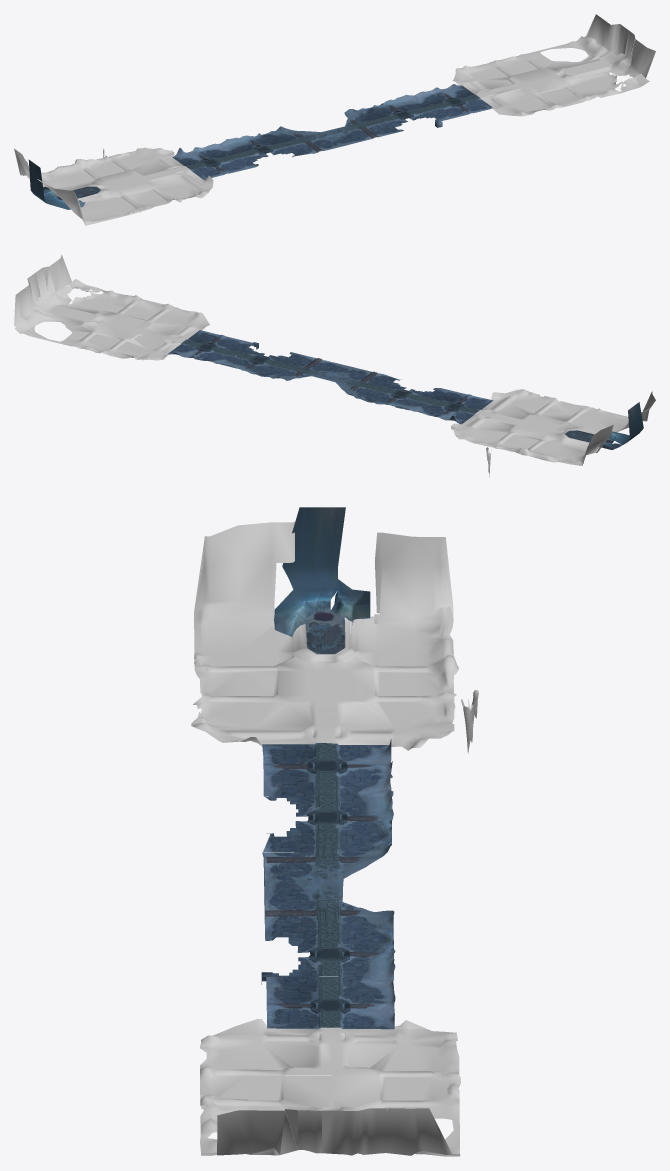
File: floor.obj
3 renders of one model, top to bottom at view 1: azimuth 30°, elevation 25°; view 2: azimuth 150°, elevation 25°; view 3: azimuth 270°, elevation 25°, orthographic. The views are drawn at different scales.
Parts seen in each view (by area): view 1: Object054_未命名.001, DrawCall_0049_未命名.002, DrawCall_0067_未命名, DrawCall_0276_未命名.003, Object055_未命名.004, Object056_未命名.007, DrawCall_0079_未命名.005, DrawCall_0082_未命名.006; view 2: Object054_未命名.001, DrawCall_0049_未命名.002, DrawCall_0067_未命名, DrawCall_0276_未命名.003, Object055_未命名.004, Object056_未命名.007, DrawCall_0079_未命名.005, DrawCall_0082_未命名.006; view 3: DrawCall_0049_未命名.002, Object054_未命名.001, DrawCall_0082_未命名.006, DrawCall_0067_未命名, DrawCall_0276_未命名.003, Object055_未命名.004, Object056_未命名.007, DrawCall_0079_未命名.005.
Part boxes in pixels (<box>): Object054_未命名.001: <box>452,14,655,116</box>; DrawCall_0049_未命名.002: <box>14,147,213,225</box>; DrawCall_0067_未命名: <box>281,109,384,153</box>; DrawCall_0276_未命名.003: <box>172,141,255,179</box>; Object055_未命名.004: <box>409,84,492,120</box>; Object056_未命名.007: <box>353,94,442,135</box>; DrawCall_0079_未命名.005: <box>224,126,312,166</box>; DrawCall_0082_未命名.006: <box>28,159,101,209</box>; Object054_未命名.001: <box>14,254,209,360</box>; DrawCall_0049_未命名.002: <box>451,389,655,476</box>; DrawCall_0067_未命名: <box>278,357,382,395</box>; DrawCall_0276_未命名.003: <box>409,388,493,424</box>; Object055_未命名.004: <box>168,330,252,364</box>; Object056_未命名.007: <box>221,342,309,378</box>; DrawCall_0079_未命名.005: <box>351,374,439,409</box>; DrawCall_0082_未命名.006: <box>565,402,643,449</box>; DrawCall_0049_未命名.002: <box>191,521,478,753</box>; Object054_未命名.001: <box>200,1019,460,1156</box>; DrawCall_0082_未命名.006: <box>274,507,370,654</box>; DrawCall_0067_未命名: <box>262,844,394,922</box>; DrawCall_0276_未命名.003: <box>262,739,392,796</box>; Object055_未命名.004: <box>266,972,395,1029</box>; Object056_未命名.007: <box>261,916,395,984</box>; DrawCall_0079_未命名.005: <box>263,790,393,851</box>.
Size of the model in its own units: 1798 by 205 by 374.
